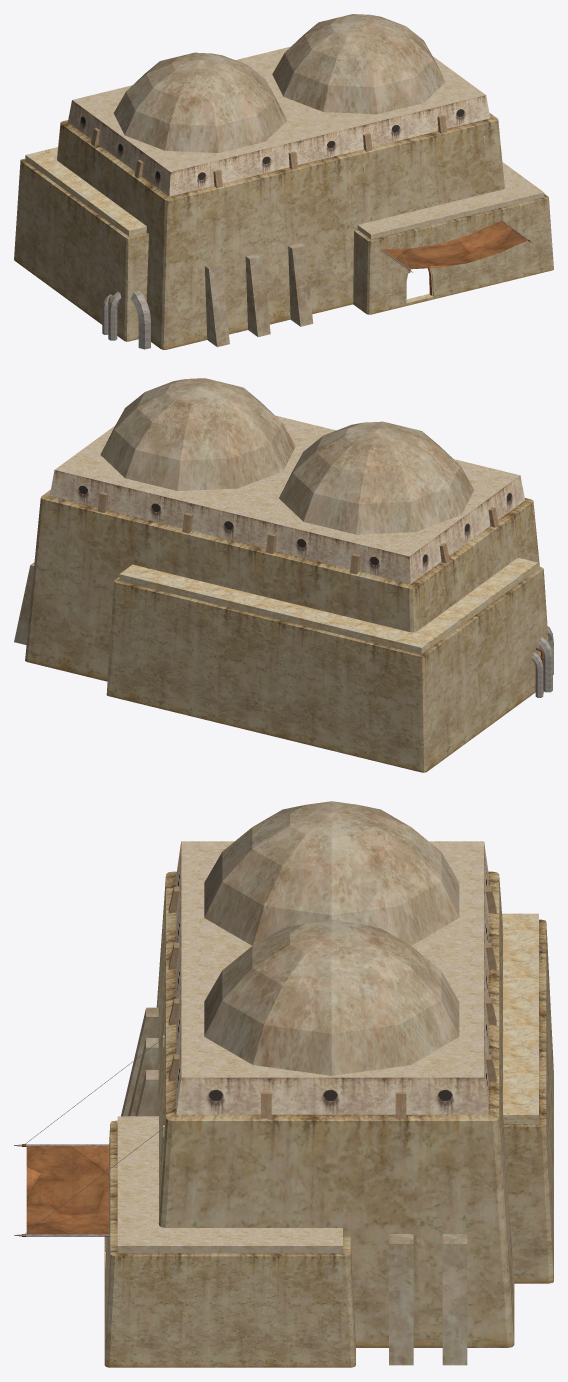
Rendered from thm_tato_imprv_building_s03_r0_mesh_l0.fbx.
3 renders of one model, top to bottom at view 1: azimuth 30°, elevation 25°; view 2: azimuth 150°, elevation 25°; view 3: azimuth 270°, elevation 25°, orthographic. The views are drawn at different scales.
Visible parts, largest first — view 1: mesh_node; view 2: mesh_node; view 3: mesh_node.
Boxes of the visible parts, x1,y1,x2,y2 form: mesh_node: [14, 14, 553, 349]; mesh_node: [14, 378, 553, 772]; mesh_node: [14, 801, 553, 1367].
Bounding box in the file's own units: 32.28 × 17.22 × 24.3.
